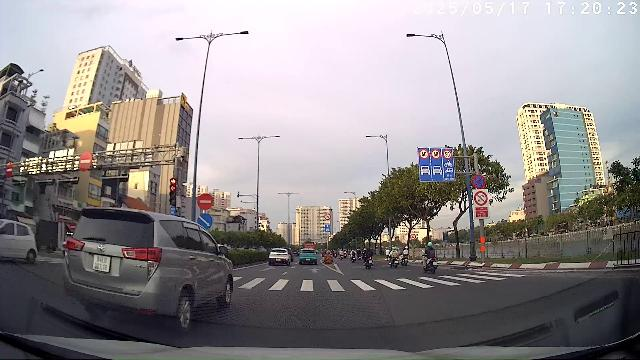102-cam-di-nguoc-chieu: (197, 193, 213, 210)
103a-cam-oto: (410, 233, 416, 240)
127-toc-do-toi-da-50: (442, 149, 452, 159)
127-toc-do-toi-da-60: (431, 149, 441, 160), (419, 149, 429, 159)
130-cam-dung-va-do-xe: (472, 175, 486, 189)
302a-huong-phai-di-vong-chuong-ngai-vat-1: (196, 213, 212, 228)
